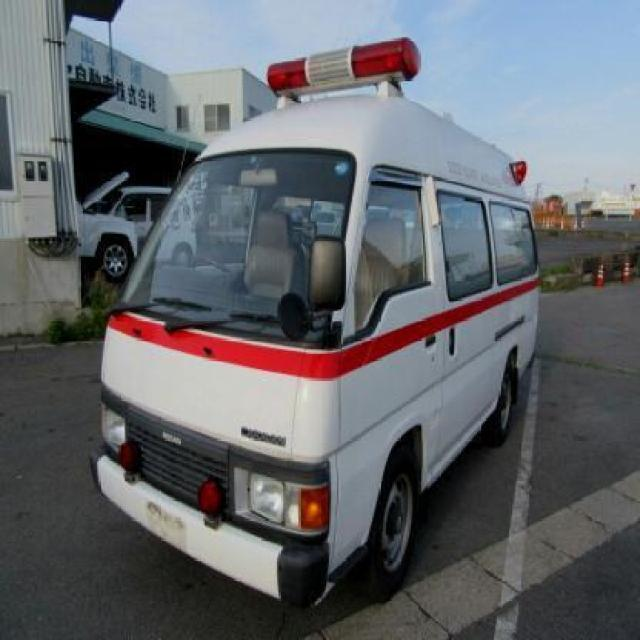emergency: (90, 36, 542, 608)
